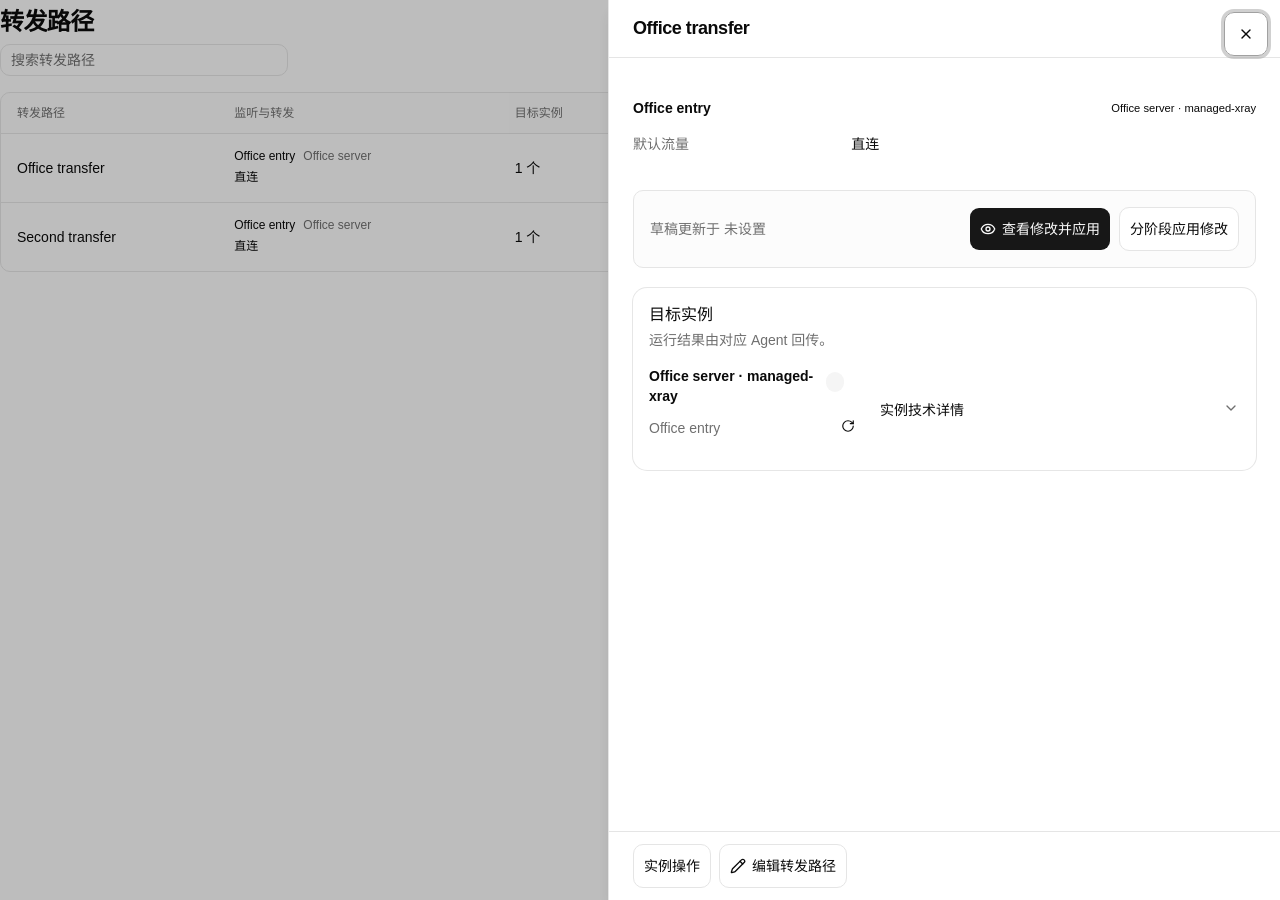
Test: keeps pending deployment checks scoped to their original route
Click the button "查看修改并应用" at (1040, 229), box left=969, top=207, right=1111, bottom=251
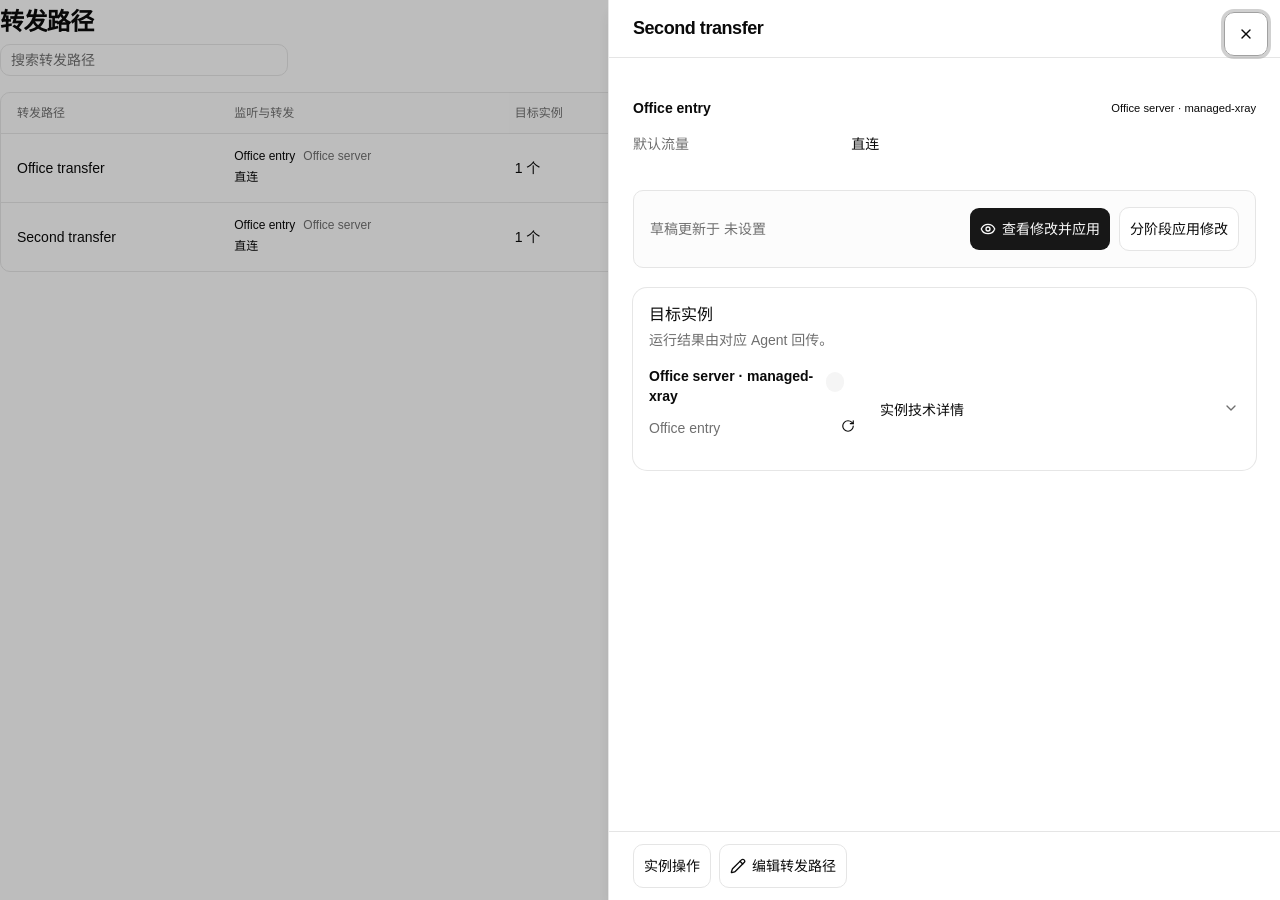
Expected: the heading "应用转发路径修改" is not shown
Expected: the heading "Second transfer" is shown, left=633, top=18, right=763, bottom=38
Click the button "查看修改并应用" at (1040, 229), box left=969, top=207, right=1111, bottom=251
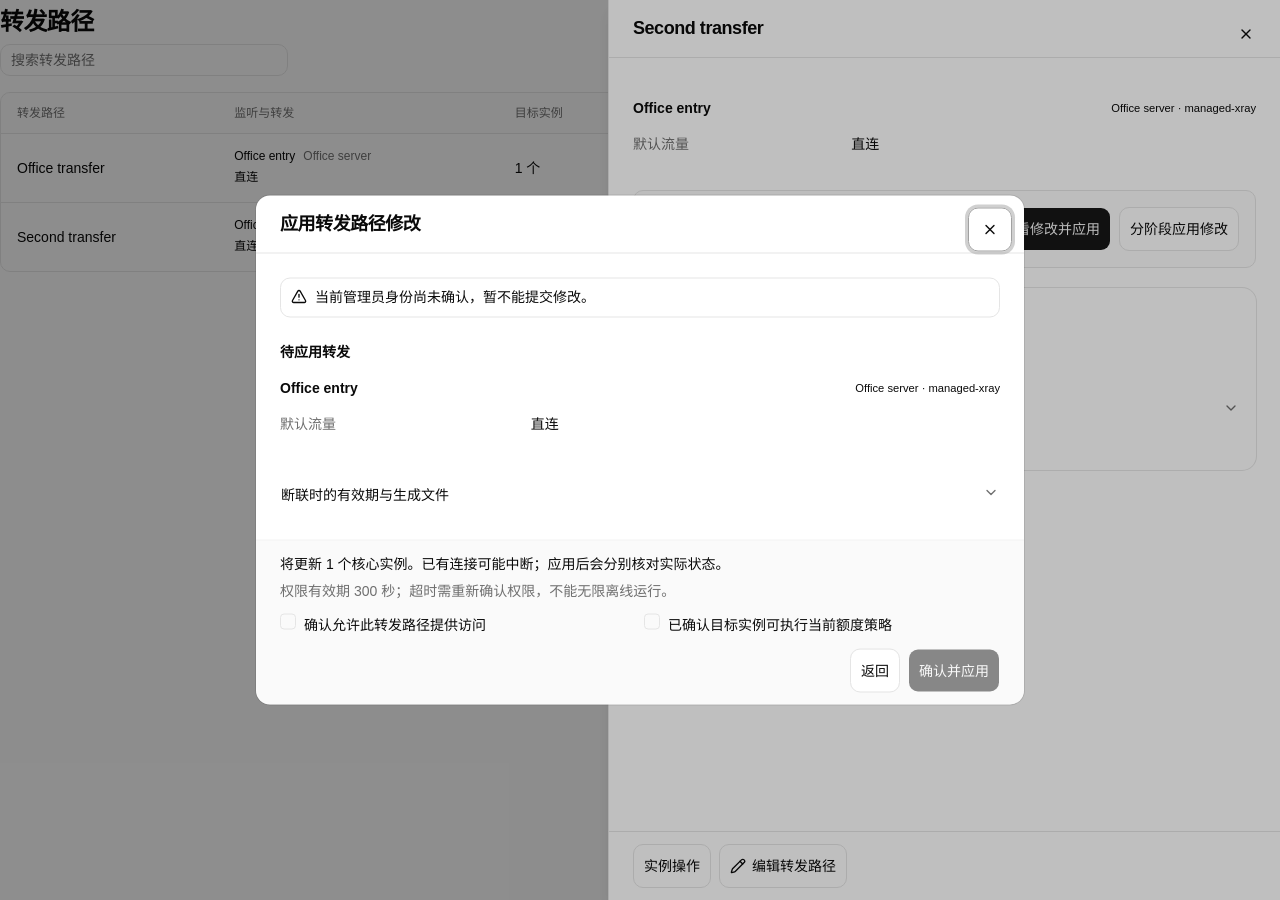
Click the button "断联时的有效期与生成文件" at (365, 494), box left=280, top=473, right=1000, bottom=515
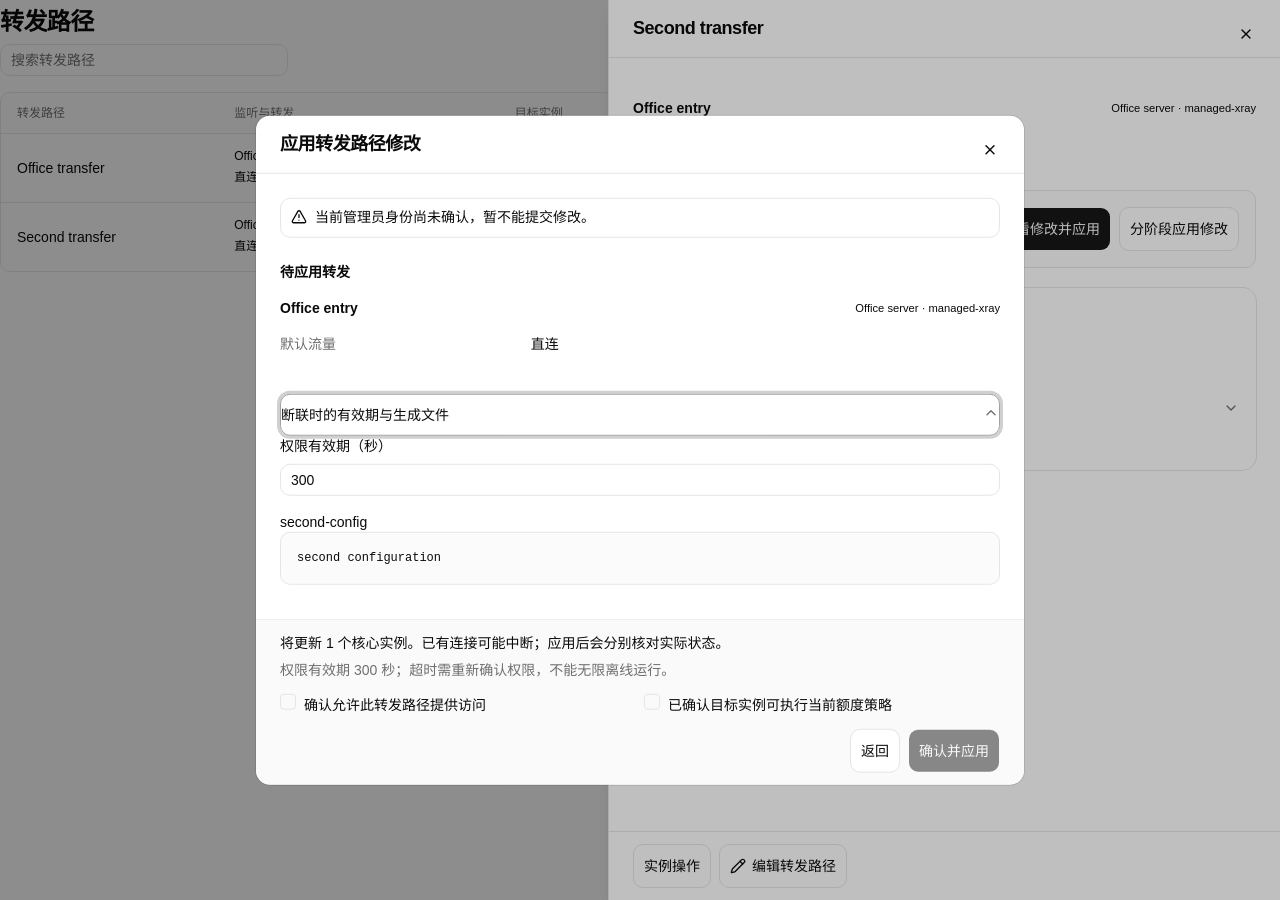
Expected: the heading "second-config" is shown, left=280, top=514, right=367, bottom=530
